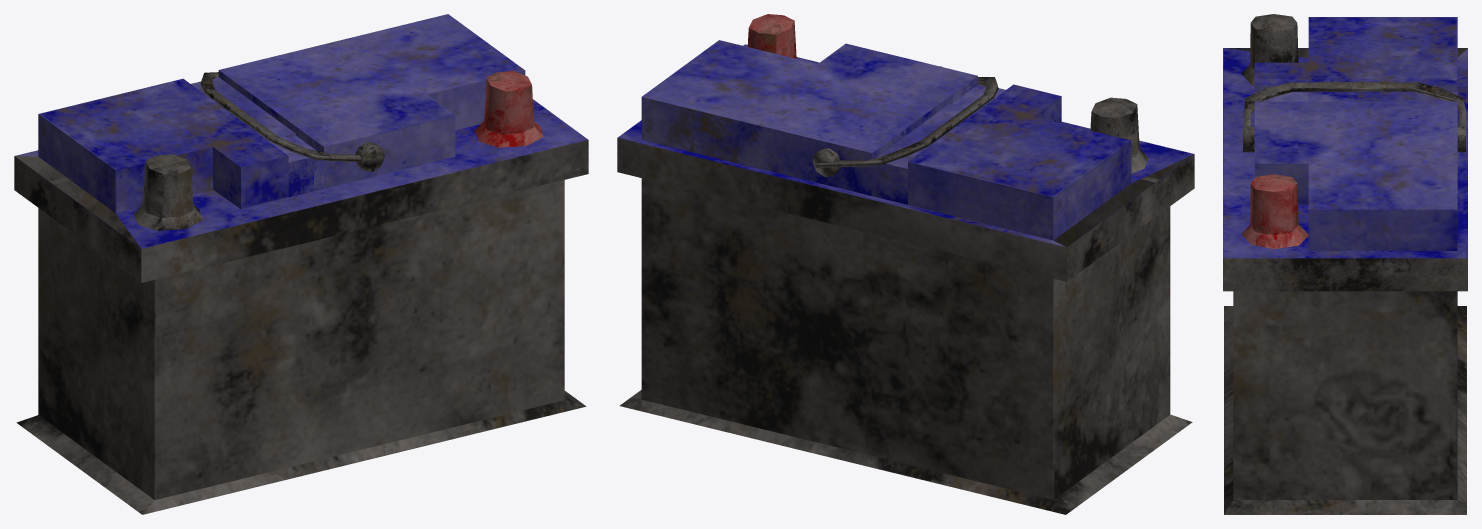
The model's file is Battery.glb.
3 renders of one model, left to right at view 1: azimuth 30°, elevation 25°; view 2: azimuth 150°, elevation 25°; view 3: azimuth 270°, elevation 25°, orthographic. The views are drawn at different scales.
Visible parts, largest first — view 1: Object_2; view 2: Object_2; view 3: Object_2.
Part boxes in pixels (x1,y1,x2,y2): Object_2: (14, 14, 588, 514); Object_2: (617, 14, 1194, 514); Object_2: (1223, 14, 1467, 514).
Bounding box in the file's own units: 6.95 × 4.79 × 3.42.
1 material, 1 textured.
